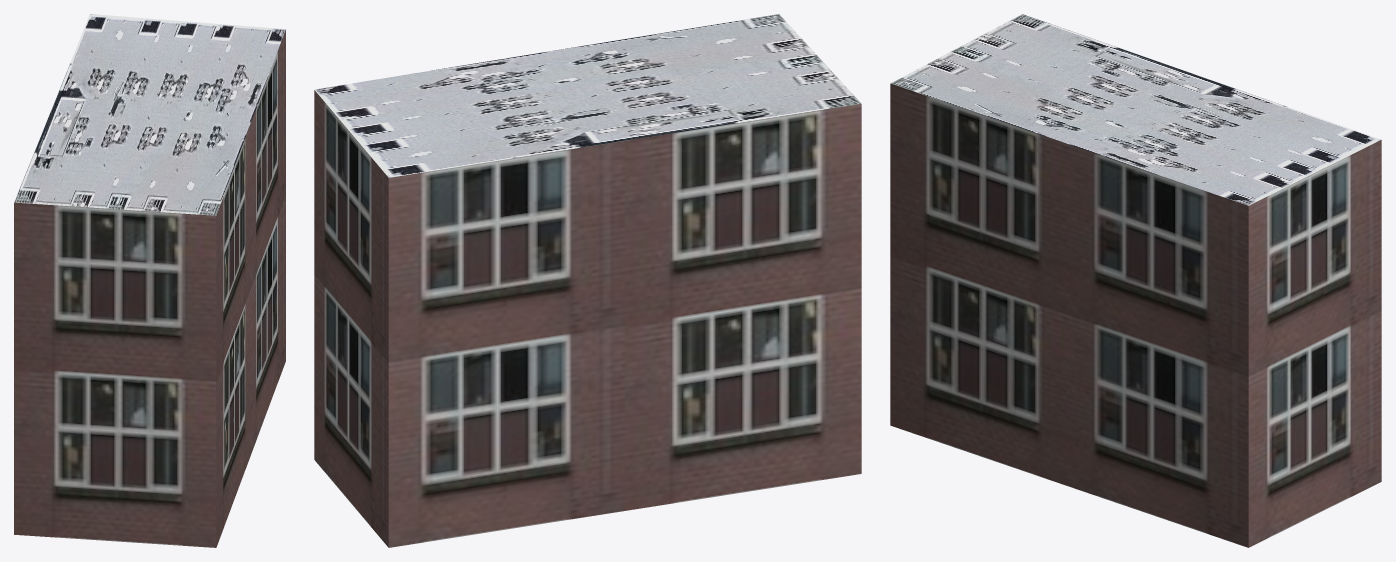
File: ResTex__3752.fbx
3 renders of one model, left to right at view 1: azimuth 30°, elevation 25°; view 2: azimuth 150°, elevation 25°; view 3: azimuth 270°, elevation 25°, orthographic. The views are drawn at different scales.
Parts seen in each view (by area): view 1: CityEngineMaterial_12_m, CityEngineMaterial_8_m; view 2: CityEngineMaterial_12_m, CityEngineMaterial_8_m; view 3: CityEngineMaterial_12_m, CityEngineMaterial_8_m.
Part boxes in pixels (x1,y1,x2,y2): CityEngineMaterial_12_m: (14,29,285,547); CityEngineMaterial_8_m: (14,14,285,215); CityEngineMaterial_12_m: (314,90,861,547); CityEngineMaterial_8_m: (314,14,861,177); CityEngineMaterial_12_m: (890,83,1381,547); CityEngineMaterial_8_m: (890,14,1380,205).
Size of the model in its own units: 7.22 by 6 by 7.8.
Materials: 2 (2 with a texture image).
